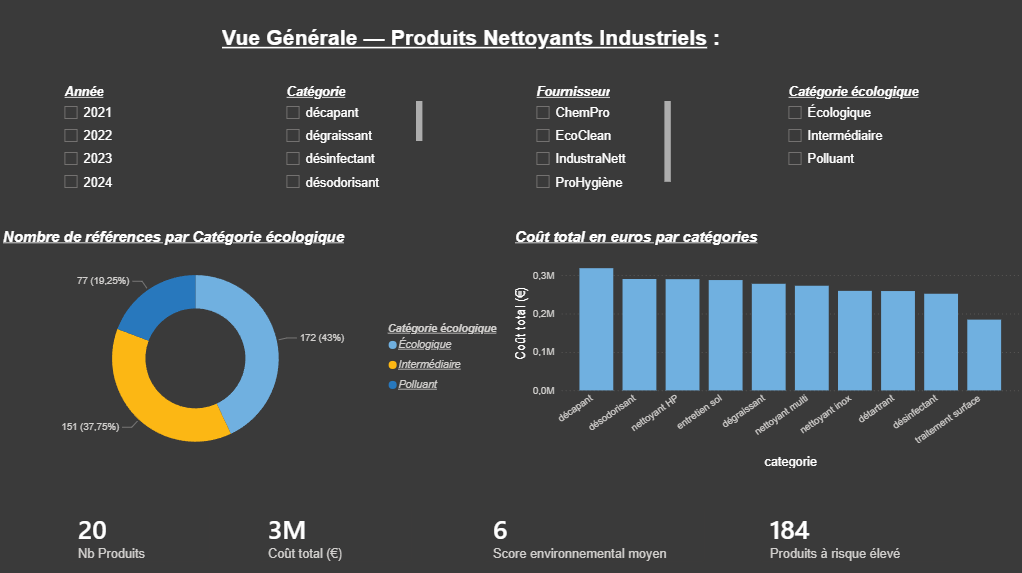

This screenshot's page, from the dashboard's own definition file:
{"tool":"powerbi","page":{"name":"Vue générale","canvas":[1280,720],"ordinal":0},"visuals":[{"type":"cardVisual","fields":{"Data":["produits_clean.Nb Produits"]},"box":[68.8,617.5,212.5,102.5],"z":0},{"type":"cardVisual","fields":{"Data":["produits_clean.Coût total (€)"]},"box":[306.2,617.5,227.5,102.5],"z":1000},{"type":"cardVisual","fields":{"Data":["produits_clean.Score environnemental moyen"]},"box":[587.5,617.5,312.5,102.5],"z":2000},{"type":"cardVisual","fields":{"Data":["produits_clean.Produits à risque élevé"]},"box":[933.8,617.5,275,102.5],"z":3000},{"type":"donutChart","title":"Nombre de  références par Catégorie écologique","fields":{"Category":["produits_clean.Catégorie écologique"],"Y":["produits_clean.Nb Références"]},"box":[0,285,640,305],"z":4000},{"type":"columnChart","title":"Coût total en euros par catégories","fields":{"Y":["produits_clean.Coût total (€)"],"Category":["produits_clean.categorie"]},"box":[640,285,640,305],"z":5000},{"type":"slicer","fields":{"Values":["produits_clean.mois_label.Variation.Hiérarchie de dates.Année"]},"box":[68.8,101.2,175,151.2],"z":5001},{"type":"slicer","fields":{"Values":["produits_clean.categorie"]},"box":[346.2,101.2,187.5,151.2],"z":5002},{"type":"slicer","fields":{"Values":["produits_clean.fournisseur"]},"box":[658.8,101.2,186.2,151.2],"z":5003},{"type":"slicer","fields":{"Values":["produits_clean.Catégorie écologique"]},"box":[973.8,101.2,235,151.2],"z":5004},{"type":"textbox","box":[273.8,27.5,643.8,61.2],"z":5005}]}

Visuals, with their boxes in screenshot pixels (x1, y1, x2, y2), scaled from the page's 1280x720 canvas onto the 1022x573 screenshot:
cardVisual - produits_clean.Nb Produits: select_region(55, 491, 225, 572)
cardVisual - produits_clean.Coût total (€): select_region(244, 491, 426, 572)
cardVisual - produits_clean.Score environnemental moyen: select_region(469, 491, 719, 572)
cardVisual - produits_clean.Produits à risque élevé: select_region(746, 491, 965, 572)
"Nombre de  références par Catégorie écologique" donutChart: select_region(0, 227, 511, 470)
"Coût total en euros par catégories" columnChart: select_region(511, 227, 1021, 470)
slicer - produits_clean.mois_label.Variation.Hiérarchie de dates.Année: select_region(55, 81, 195, 201)
slicer - produits_clean.categorie: select_region(276, 81, 426, 201)
slicer - produits_clean.fournisseur: select_region(526, 81, 675, 201)
slicer - produits_clean.Catégorie écologique: select_region(778, 81, 965, 201)
textbox: select_region(219, 22, 733, 71)
